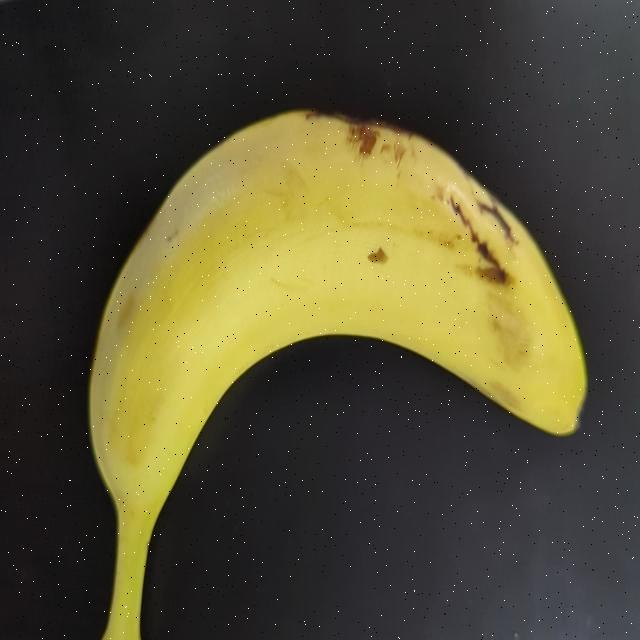Pisang: (43, 87, 616, 640)
